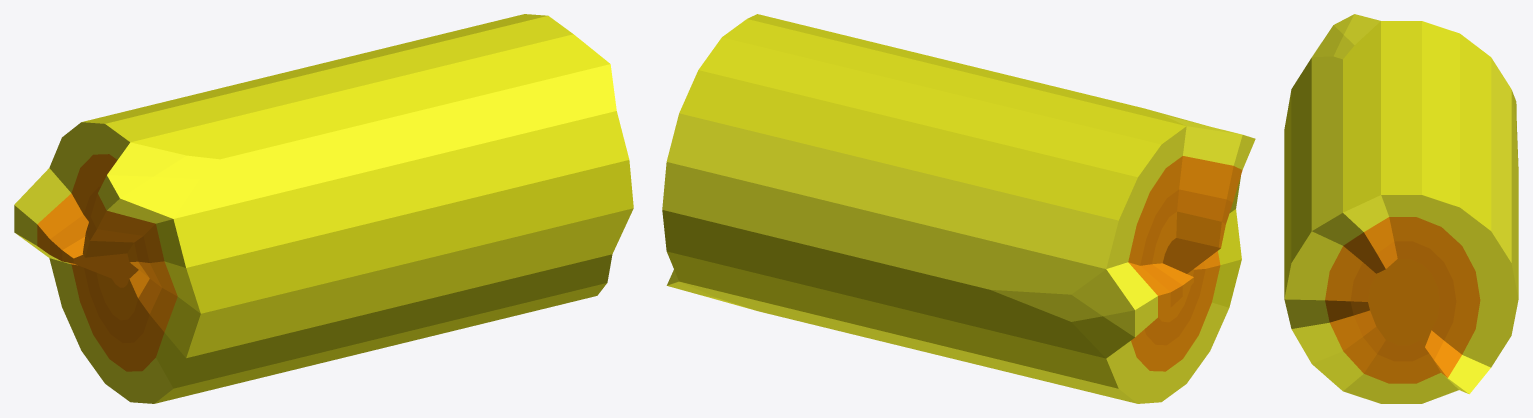
Rendered from Broken log_19.fbx.
The picture shows the model from 3 angles, left to right: view 1: azimuth 30°, elevation 25°; view 2: azimuth 150°, elevation 25°; view 3: azimuth 270°, elevation 25°; orthographic projection. The views are drawn at different scales.
Visible parts, largest first — view 1: Circle.312; view 2: Circle.312; view 3: Circle.312.
Part boxes in pixels (x1,y1,x2,y2): Circle.312: [14, 14, 633, 403]; Circle.312: [662, 14, 1255, 403]; Circle.312: [1284, 14, 1518, 403].
Size of the model in its own units: 51.66 by 25.19 by 25.57.
